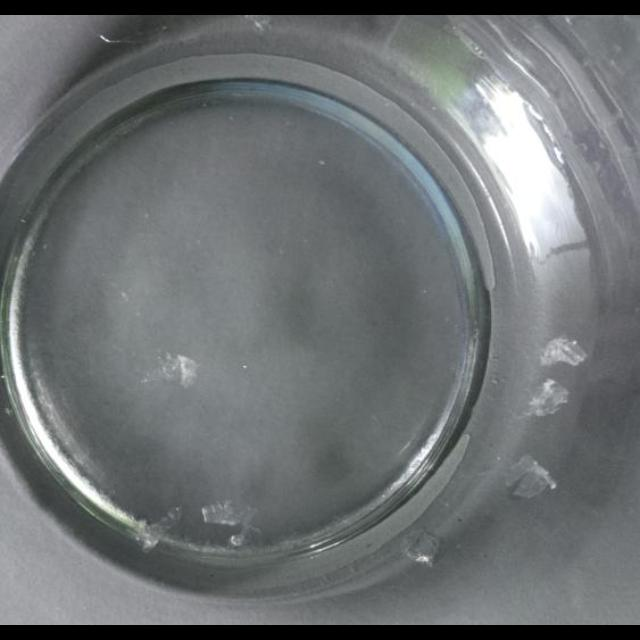Fibre: (202, 499, 260, 547), (144, 352, 198, 391), (508, 457, 556, 499), (525, 377, 569, 417), (405, 530, 441, 566)
